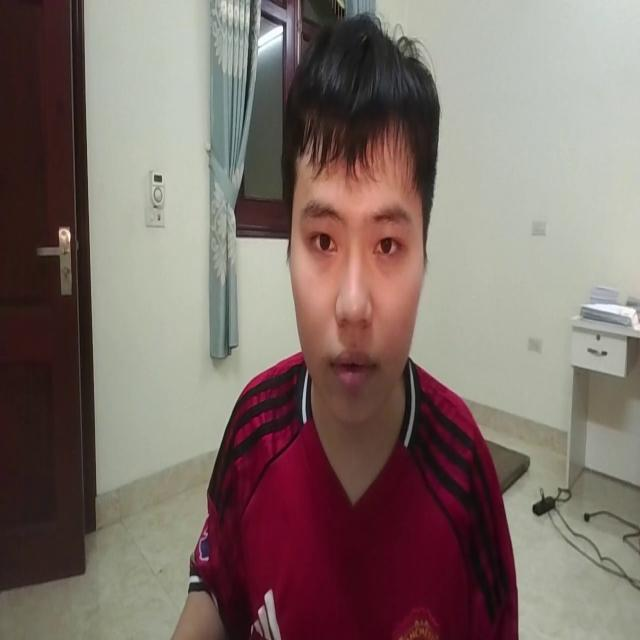student: (149, 13, 521, 640)
